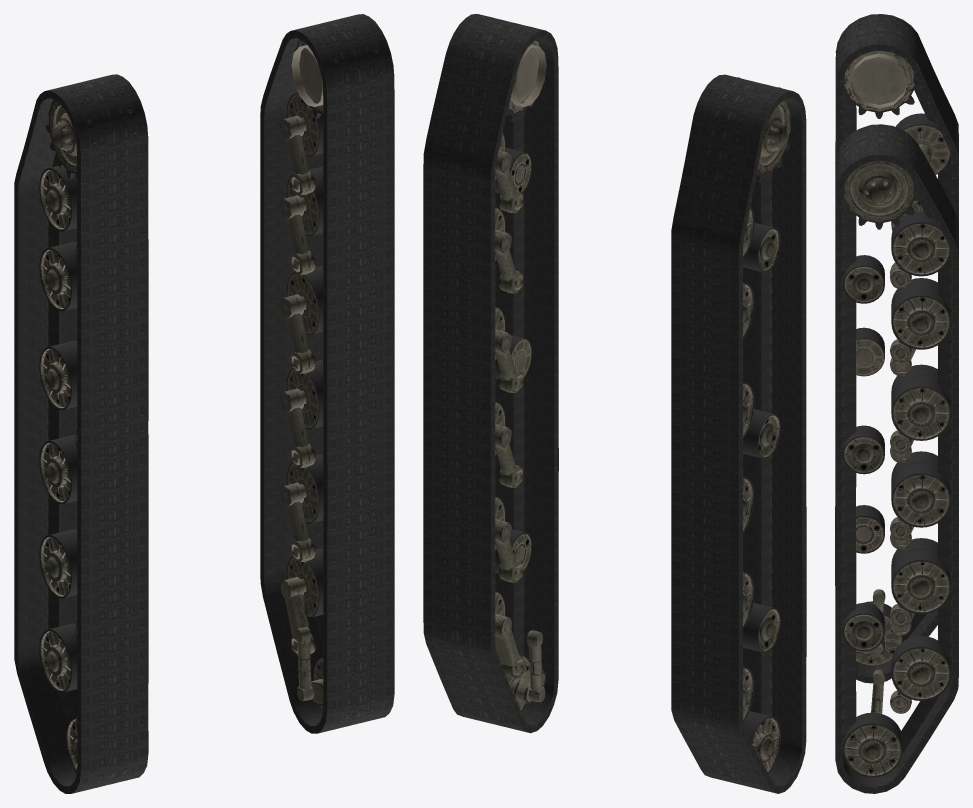
Rendered from Chassis.glb.
3 renders of one model, left to right at view 1: azimuth 30°, elevation 25°; view 2: azimuth 150°, elevation 25°; view 3: azimuth 270°, elevation 25°, orthographic. The views are drawn at different scales.
Parts seen in each view (by area): view 1: set_0_group_0, set_1_group_0, set_3_group_0, set_2_group_0; view 2: set_0_group_0, set_1_group_0, set_3_group_0, set_2_group_0; view 3: set_3_group_0, set_1_group_0, set_2_group_0, set_0_group_0.
Boxes of the visible parts, <box> form: set_0_group_0: <box>14,74,148,793</box>; set_1_group_0: <box>260,14,394,733</box>; set_3_group_0: <box>280,20,382,710</box>; set_2_group_0: <box>39,80,136,772</box>; set_0_group_0: <box>671,74,806,793</box>; set_1_group_0: <box>423,14,558,733</box>; set_3_group_0: <box>478,16,546,710</box>; set_2_group_0: <box>716,77,790,773</box>; set_3_group_0: <box>835,130,951,777</box>; set_1_group_0: <box>835,124,958,793</box>; set_2_group_0: <box>835,19,950,666</box>; set_0_group_0: <box>835,14,958,683</box>.
Size of the model in its own units: 3.12 by 6.47 by 1.14.
Materials: 4 (4 with a texture image).
